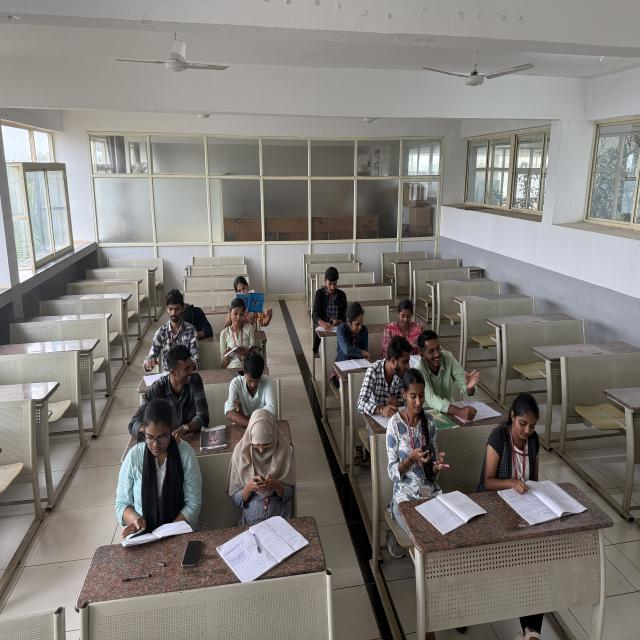Reading: (110, 396, 205, 539), (212, 296, 263, 366), (224, 259, 266, 327), (337, 293, 374, 369)
Using Phone: (384, 375, 454, 499), (237, 412, 302, 505)
Writing: (478, 381, 568, 521), (361, 337, 425, 423), (297, 260, 354, 350)
